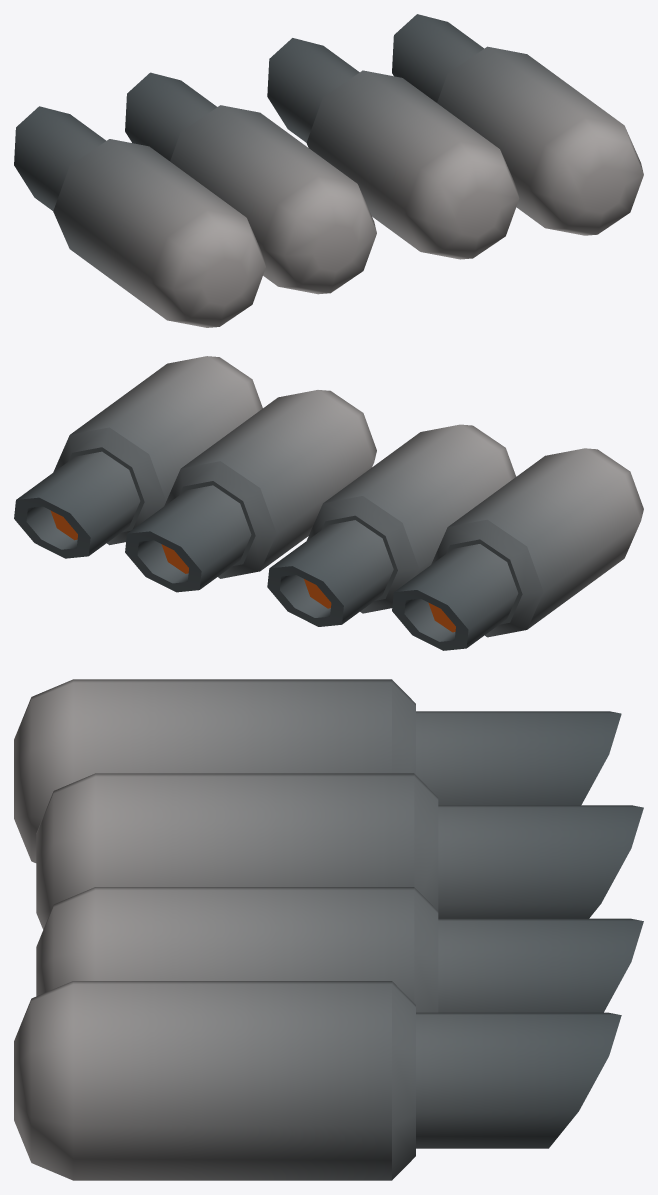
File: Car_15_Pipe_Cool.fbx
The picture shows the model from 3 angles, top to bottom: view 1: azimuth 30°, elevation 25°; view 2: azimuth 150°, elevation 25°; view 3: azimuth 270°, elevation 25°; orthographic projection. The views are drawn at different scales.
Visible parts, largest first — view 1: Car_15_Pipe_Cool; view 2: Car_15_Pipe_Cool; view 3: Car_15_Pipe_Cool.
Boxes of the visible parts, left/top/right/bottom form: Car_15_Pipe_Cool: left=14, top=14, right=643, bottom=327; Car_15_Pipe_Cool: left=14, top=356, right=643, bottom=650; Car_15_Pipe_Cool: left=14, top=679, right=643, bottom=1180.
Bounding box in the file's own units: 83.4 × 56.73 × 19.14.
